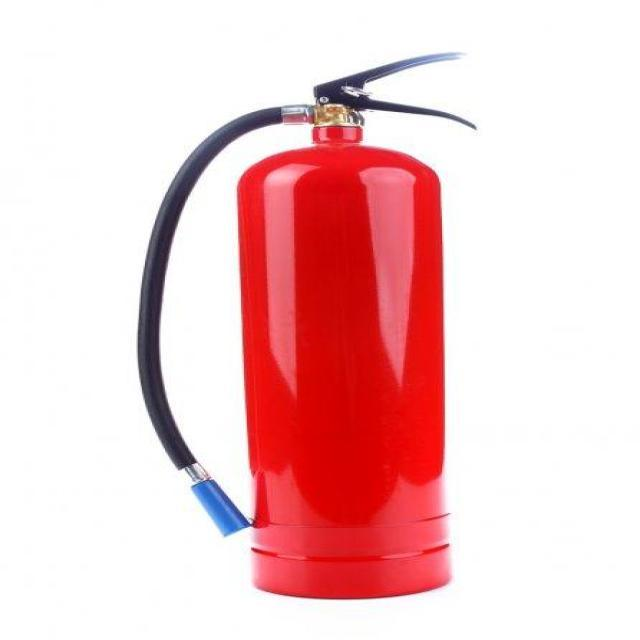FireExtinguisher: (128, 45, 486, 602)
